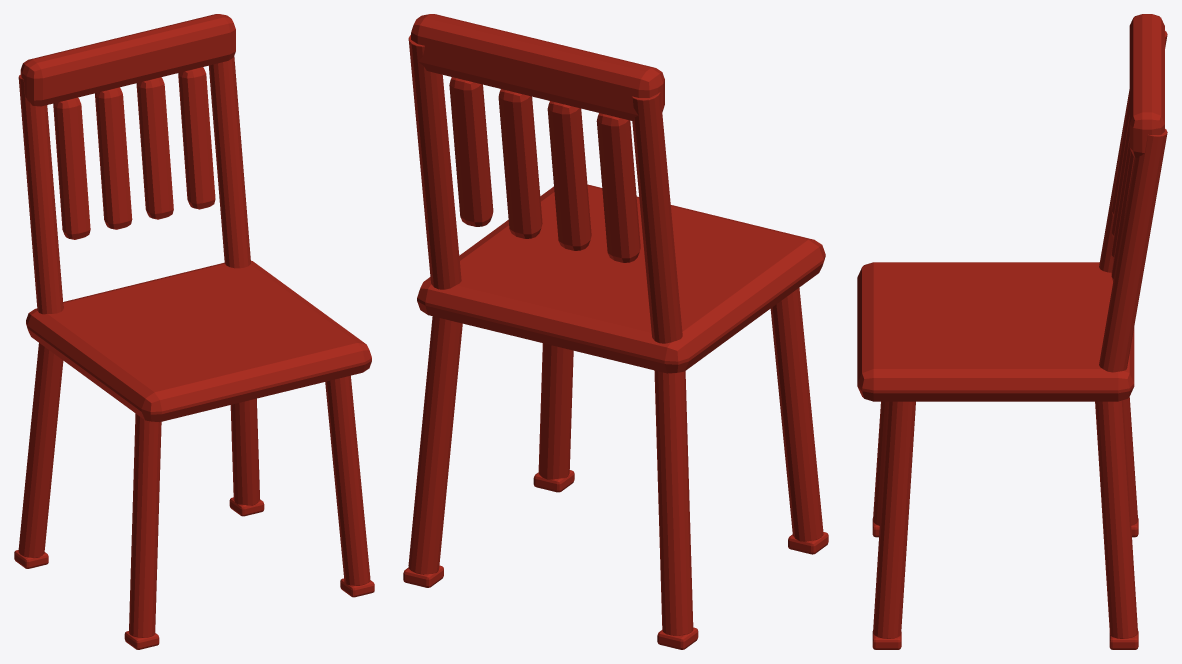
The picture shows the model from 3 angles, left to right: view 1: azimuth 30°, elevation 25°; view 2: azimuth 150°, elevation 25°; view 3: azimuth 270°, elevation 25°; orthographic projection. The views are drawn at different scales.
Visible parts, largest first — view 1: SEAT, BACK_Top, LEG, BACK_Post.001, LEG.002, BACK_Post, LEG.001, BACK_Slat.003, BACK_Slat, BACK_Slat.001, BACK_Slat.002, LEG.003; view 2: SEAT, BACK_Top, LEG.001, LEG.003, BACK_Post.001, LEG, BACK_Post, BACK_Slat.002, BACK_Slat.003, BACK_Slat, BACK_Slat.001, LEG.002; view 3: SEAT, LEG.003, LEG.002, BACK_Post, BACK_Top, LEG.001, LEG, BACK_Post.001, BACK_Slat, BACK_Slat.003, BACK_Slat.002, BACK_Slat.001.
Boxes of the visible parts, x1,y1,x2,y2 form: SEAT: (26, 260, 371, 422); BACK_Top: (20, 14, 235, 106); LEG: (129, 413, 161, 637); BACK_Post.001: (18, 75, 63, 314); LEG.002: (325, 375, 370, 585); BACK_Post: (209, 56, 250, 268); LEG.001: (18, 343, 63, 557); BACK_Slat.003: (136, 77, 173, 219); BACK_Slat: (178, 67, 215, 209); BACK_Slat.001: (53, 97, 90, 239); BACK_Slat.002: (95, 87, 132, 229); LEG.003: (230, 398, 259, 505); SEAT: (417, 184, 825, 373); BACK_Top: (411, 14, 664, 121); LEG.001: (654, 370, 693, 635); LEG.003: (408, 316, 462, 574); BACK_Post.001: (631, 92, 682, 343); LEG: (770, 288, 823, 541); BACK_Post: (408, 35, 461, 289); BACK_Slat.002: (547, 101, 591, 250); BACK_Slat.003: (498, 89, 542, 238); BACK_Slat: (449, 77, 493, 226); BACK_Slat.001: (596, 113, 640, 262); LEG.002: (538, 343, 573, 479); SEAT: (857, 262, 1134, 401); LEG.003: (1095, 400, 1137, 638); LEG.002: (873, 401, 915, 638); BACK_Post: (1099, 129, 1167, 372); BACK_Top: (1129, 14, 1164, 157); LEG.001: (1123, 397, 1137, 525); LEG: (873, 401, 887, 525); BACK_Post.001: (1099, 31, 1167, 272); BACK_Slat: (1111, 150, 1134, 281); BACK_Slat.003: (1111, 137, 1130, 260); BACK_Slat.002: (1111, 115, 1129, 239); BACK_Slat.001: (1111, 93, 1129, 217).
Size of the model in its own units: 0.459 by 0.9 by 0.4816.
